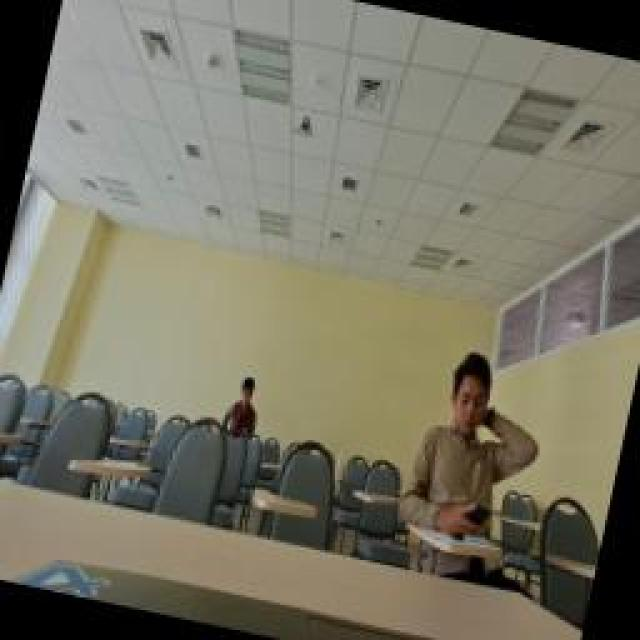phone: (398, 342, 552, 552)
study: (217, 372, 265, 442)
